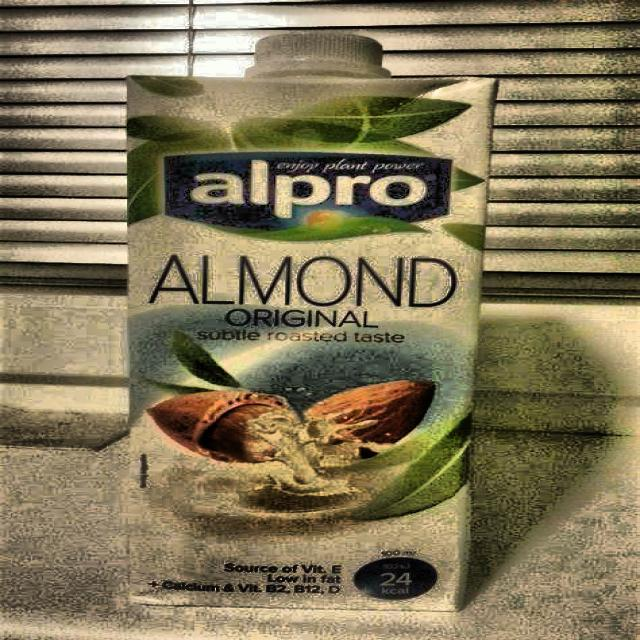cardboard: (121, 39, 498, 611)
